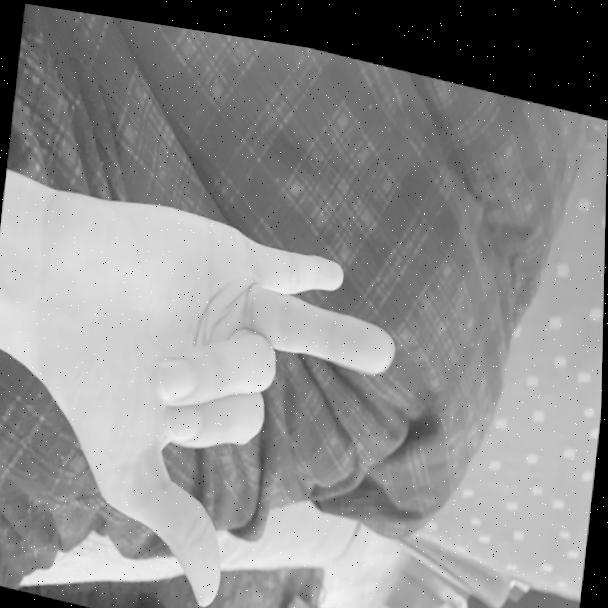five: (29, 170, 404, 608)
